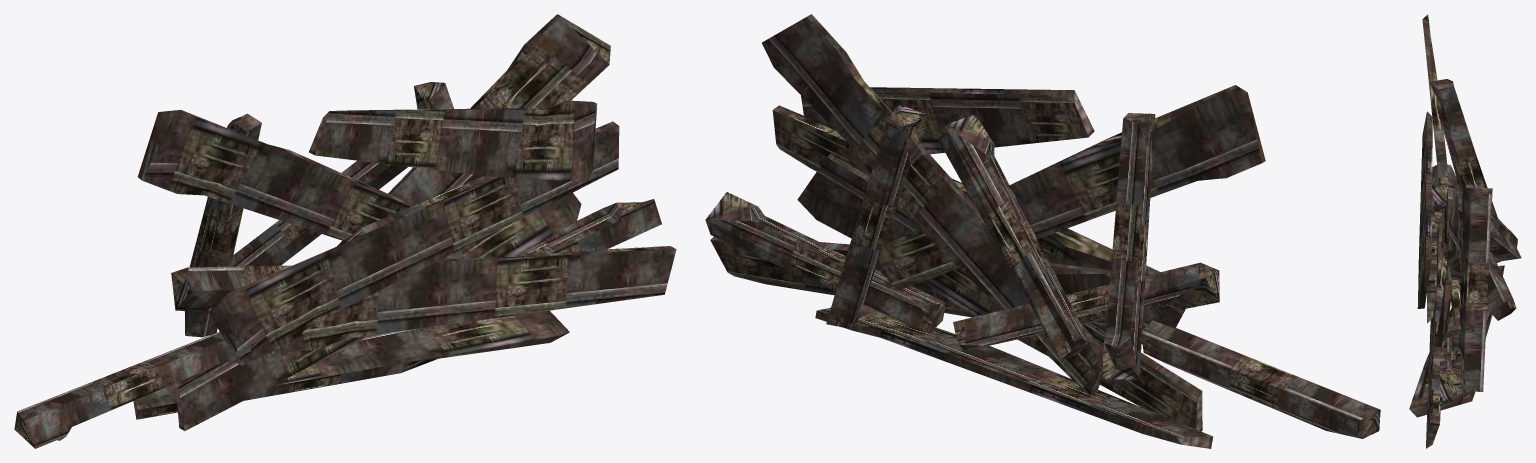
File: WoodFlank_Broken.fbx
3 renders of one model, left to right at view 1: azimuth 30°, elevation 25°; view 2: azimuth 150°, elevation 25°; view 3: azimuth 270°, elevation 25°, orthographic. The views are drawn at different scales.
Visible parts, largest first — view 1: Component1; view 2: Component1; view 3: Component1.
Part boxes in pixels (<box>): Component1: <box>14,14,676,448</box>; Component1: <box>705,14,1380,448</box>; Component1: <box>1409,14,1521,448</box>.
Bounding box in the file's own units: 308 × 152 × 58.45.
